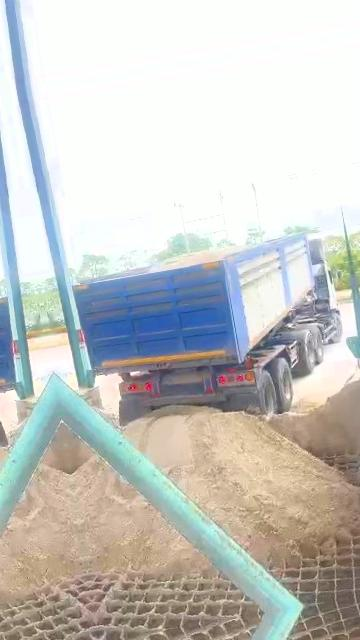sand: (125, 407, 360, 561), (72, 457, 207, 570), (268, 374, 360, 455), (153, 245, 252, 271), (61, 422, 92, 473)
